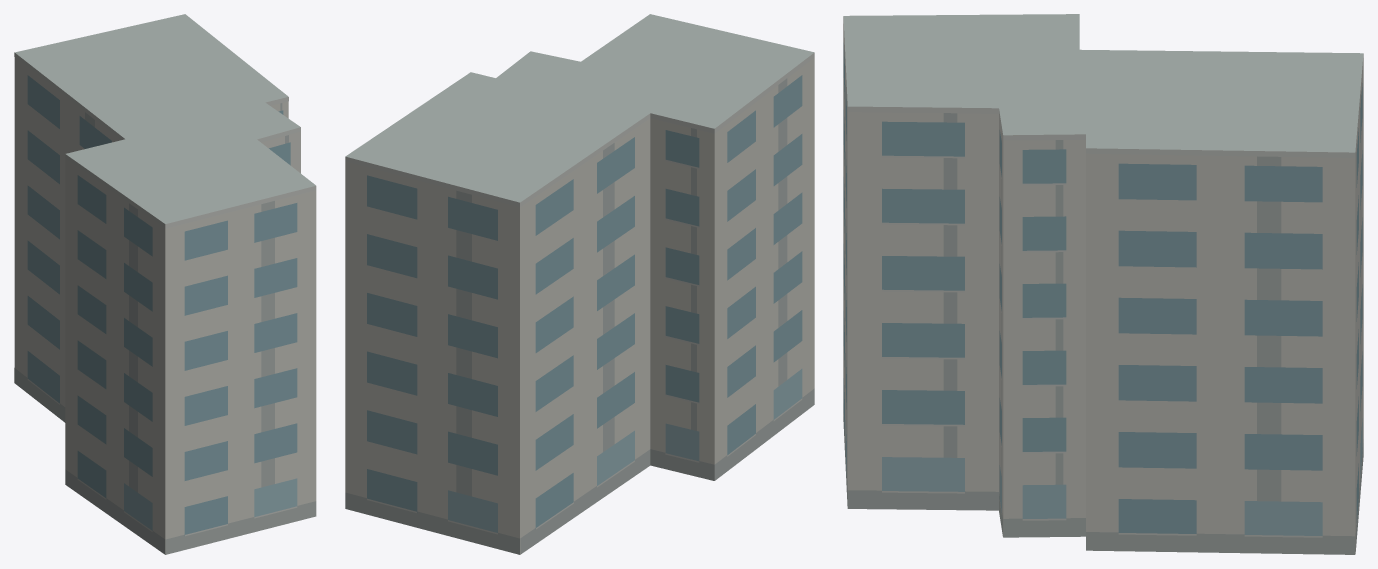
The model's file is survey-upis-32825893.glb.
3 views of the same model, side by side, from view 1: azimuth 30°, elevation 25°; view 2: azimuth 150°, elevation 25°; view 3: azimuth 270°, elevation 25° (orthographic). The views are drawn at different scales.
Visible parts, largest first — view 1: survey-upis-32825893.tmp; view 2: survey-upis-32825893.tmp; view 3: survey-upis-32825893.tmp.
Boxes of the visible parts, x1,y1,x2,y2 form: survey-upis-32825893.tmp: [14, 14, 316, 554]; survey-upis-32825893.tmp: [345, 14, 814, 554]; survey-upis-32825893.tmp: [843, 14, 1363, 554].
Size of the model in its own units: 13.23 by 17.9 by 20.98.
